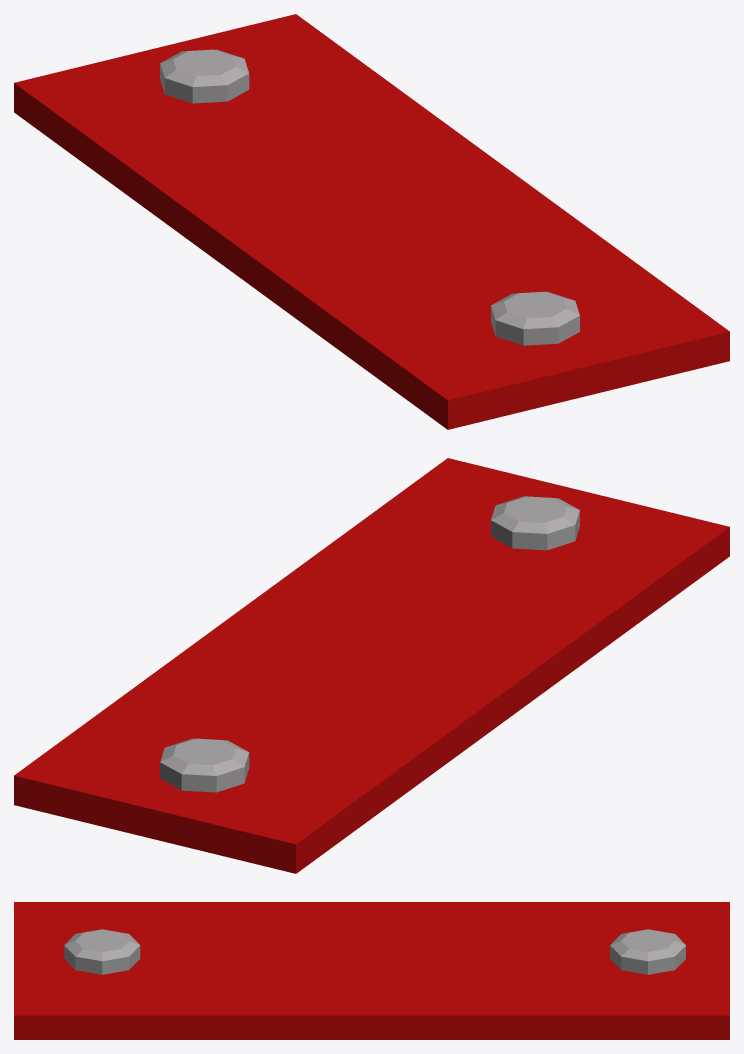
Rendered from Xylophone_01.fbx.
The picture shows the model from 3 angles, top to bottom: view 1: azimuth 30°, elevation 25°; view 2: azimuth 150°, elevation 25°; view 3: azimuth 270°, elevation 25°; orthographic projection. The views are drawn at different scales.
Visible parts, largest first — view 1: Xylophone_01; view 2: Xylophone_01; view 3: Xylophone_01.
Boxes of the visible parts, x1,y1,x2,y2 form: Xylophone_01: [14, 14, 729, 429]; Xylophone_01: [14, 458, 729, 873]; Xylophone_01: [14, 902, 729, 1039].
Bounding box in the file's own units: 100 × 17.38 × 266.
